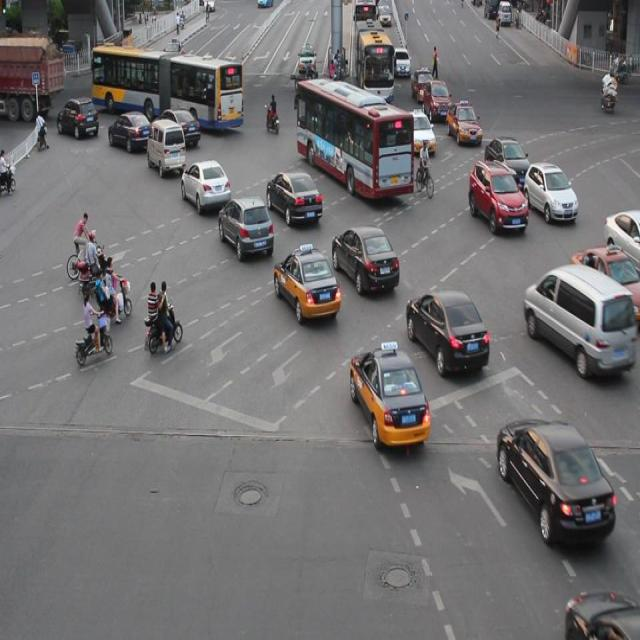car: (495, 414, 615, 542), (349, 345, 430, 444), (404, 287, 488, 373), (272, 244, 340, 322), (569, 245, 640, 318), (330, 223, 399, 293), (468, 158, 527, 232), (562, 589, 640, 640), (218, 194, 274, 261), (522, 160, 577, 222), (266, 169, 322, 227), (181, 159, 231, 211), (484, 136, 530, 190), (602, 208, 640, 272), (152, 106, 201, 148), (108, 110, 153, 153), (445, 101, 481, 147), (402, 110, 435, 156)
truck: (523, 262, 640, 377), (147, 118, 185, 172)
van: (297, 80, 412, 199), (91, 45, 244, 129)
